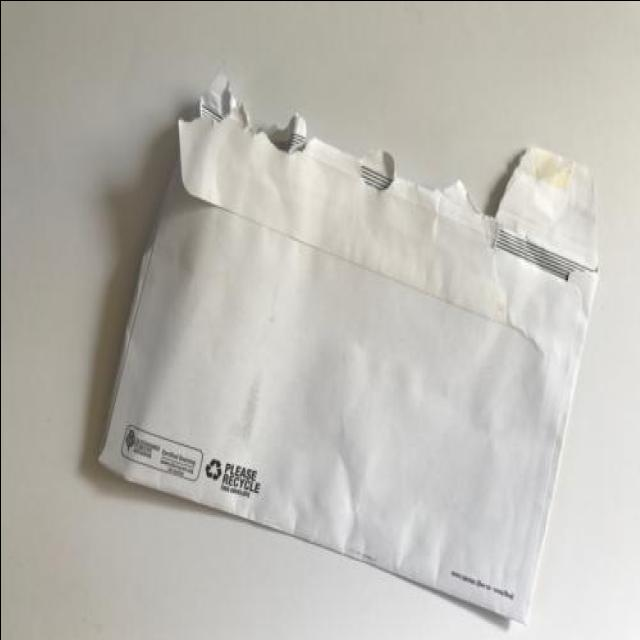kertas: (91, 76, 601, 632)
